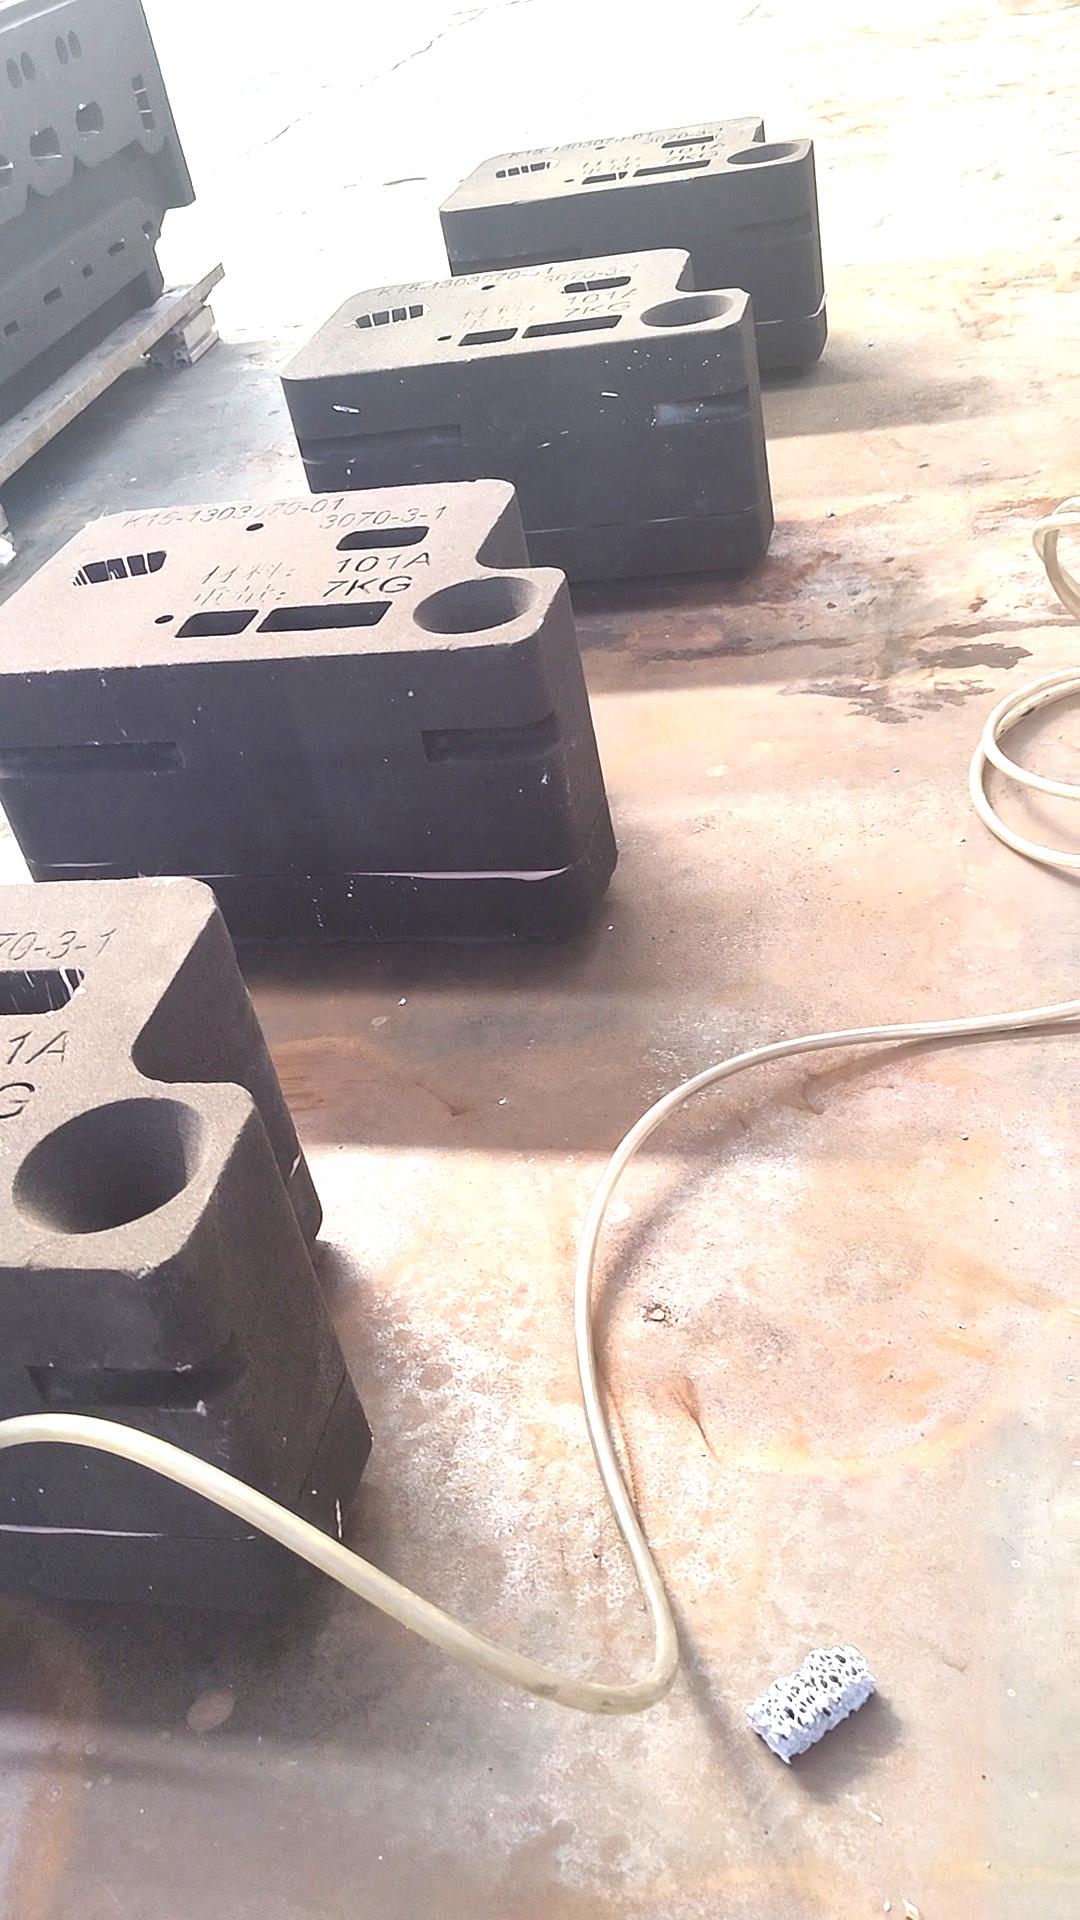pouring hole: (8, 1095, 212, 1237), (411, 575, 541, 633), (638, 294, 735, 328), (727, 142, 804, 165)
